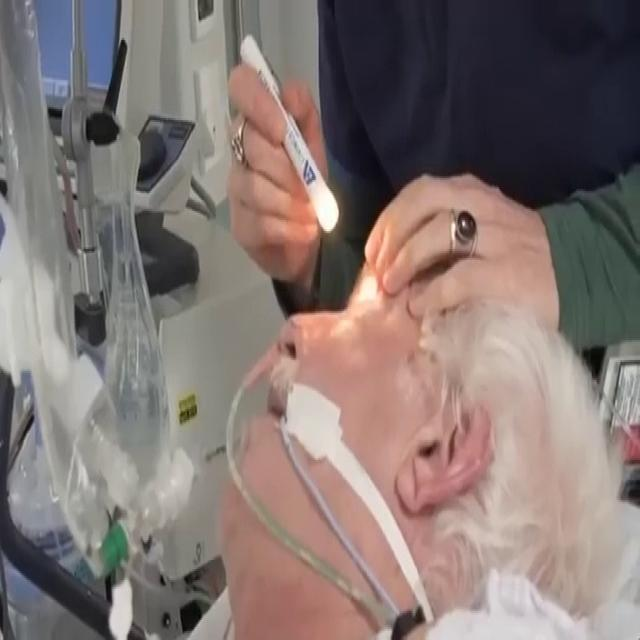doctor: (225, 0, 639, 355)
patient: (216, 246, 636, 638)
